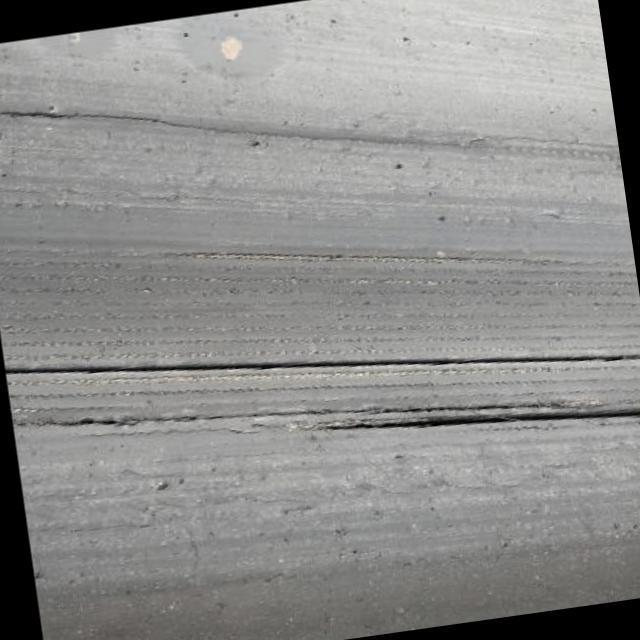Tear: (12, 398, 580, 433), (3, 350, 640, 378), (316, 402, 639, 436), (0, 100, 206, 138)
Wear: (0, 242, 640, 358)
